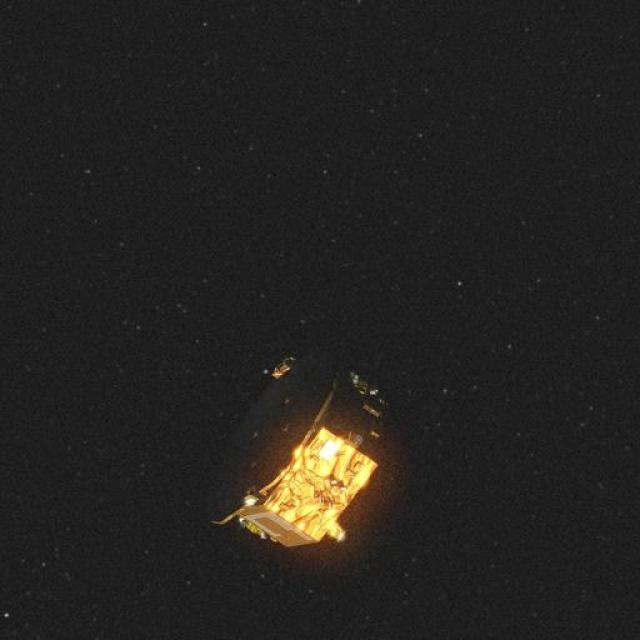lisa_pathfinder: (183, 331, 401, 572)
